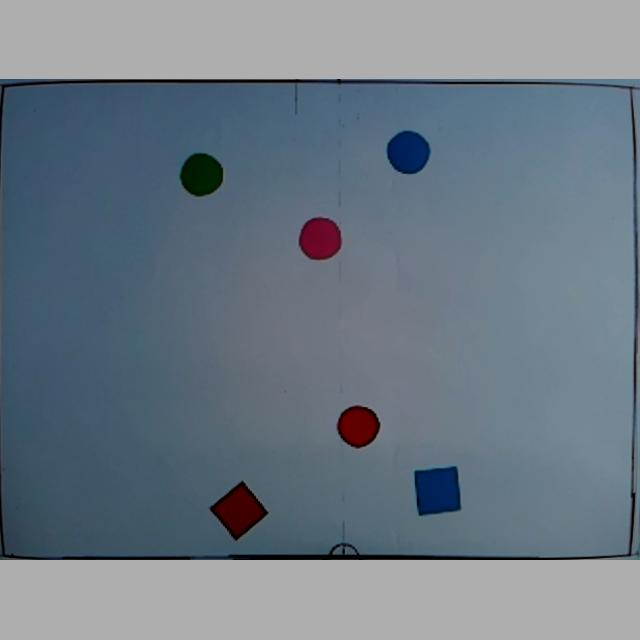blueCircle: (386, 130, 432, 178)
blueSquare: (412, 466, 462, 518)
greenCircle: (180, 154, 224, 198)
pinkCircle: (298, 215, 344, 262)
redCircle: (336, 406, 382, 450)
redSquare: (208, 481, 270, 544)
